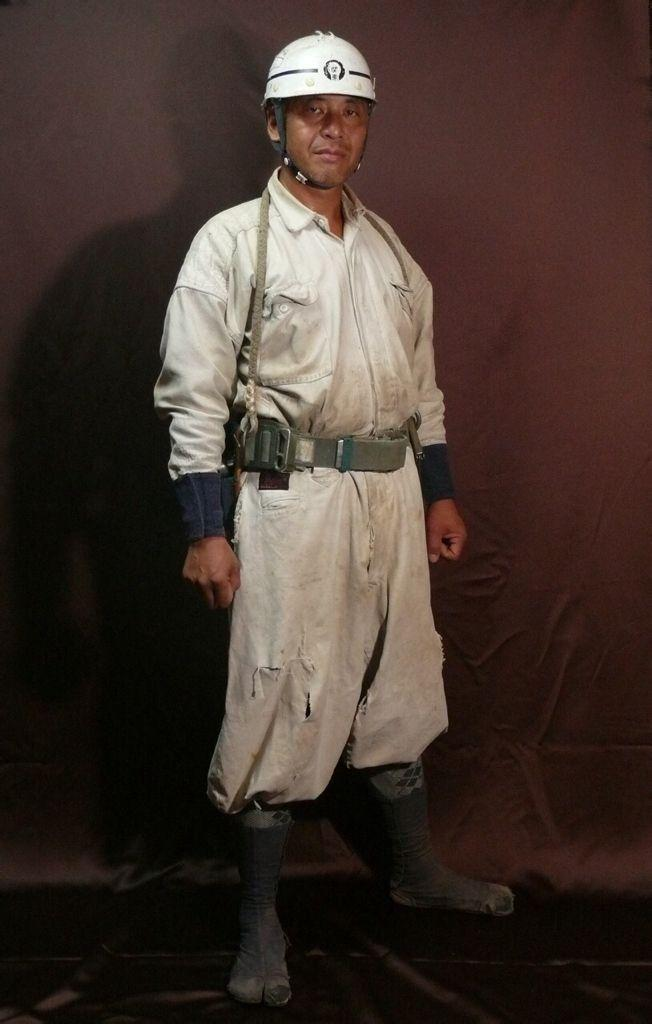helmet: (261, 24, 387, 111)
